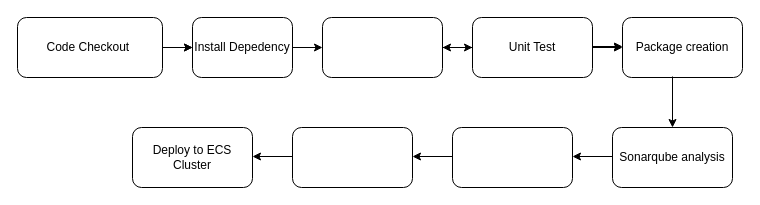
The diagram is 760 pixels wide and 205 high, and some of its shapes have lost their labels. Here are the shapes that lost their labels. From the top down, the centre of each, then its label:
pixel 382 47: Build the Code
pixel 352 157: Push to Docker hub
pixel 512 157: Build docker image
